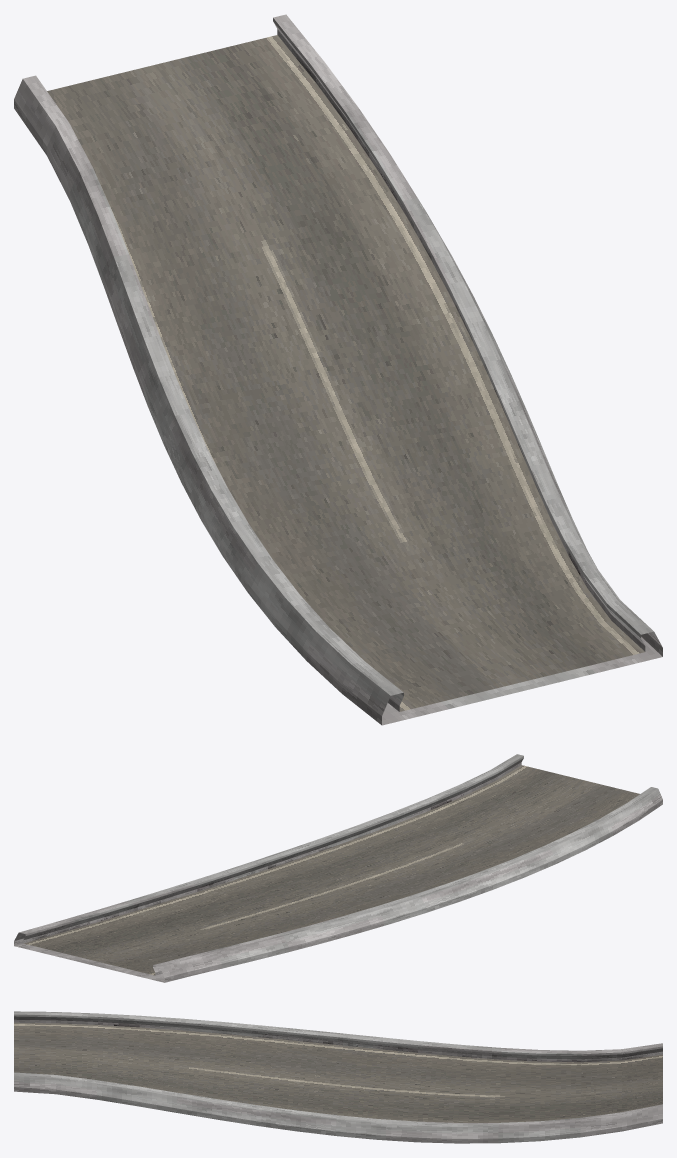
File: chicane-right1x4.glb
3 renders of one model, top to bottom at view 1: azimuth 30°, elevation 25°; view 2: azimuth 150°, elevation 25°; view 3: azimuth 270°, elevation 25°, orthographic. The views are drawn at different scales.
Visible parts, largest first — view 1: road-Chicane-Flat-BiSlopeUp-Up1-Right1-Size4; view 2: road-Chicane-Flat-BiSlopeUp-Up1-Right1-Size4; view 3: road-Chicane-Flat-BiSlopeUp-Up1-Right1-Size4.
Part boxes in pixels (x1,y1,x2,y2): road-Chicane-Flat-BiSlopeUp-Up1-Right1-Size4: [14, 14, 662, 725]; road-Chicane-Flat-BiSlopeUp-Up1-Right1-Size4: [14, 754, 662, 982]; road-Chicane-Flat-BiSlopeUp-Up1-Right1-Size4: [14, 1011, 662, 1143].
Size of the model in its own units: 2 by 0.373 by 4.
2 materials, 2 textured.
